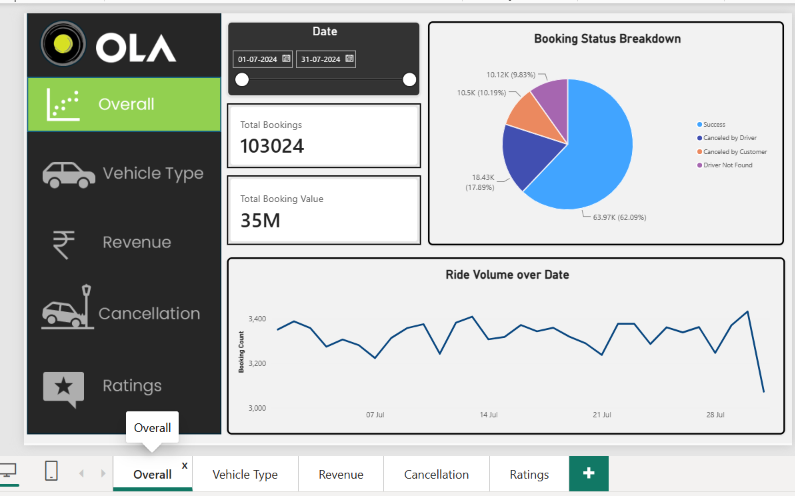

The dashboard page shown, as its layout file describes it:
{"tool":"powerbi","page":{"name":"Overall","canvas":[1280,720],"ordinal":0},"visuals":[{"type":"lineChart","title":"Ride Volume over Date","fields":{"Category":["July.Date"],"Y":["CountNonNull(July.Booking_ID)"]},"box":[338.3,406.7,930,295],"z":0},{"type":"pieChart","title":"Booking Status Breakdown","fields":{"Category":["July.Booking_Status"],"Y":["CountNonNull(July.Booking_Status)"]},"box":[673.3,13.3,593.3,373.3],"z":1000},{"type":"slicer","title":"Date","fields":{"Values":["July.Date"]},"box":[338.8,12.7,322.9,125.7],"z":2000},{"type":"cardVisual","title":"Total Bookings","fields":{"Data":["CountNonNull(July.Booking_ID)"]},"box":[338.3,150,323.3,108.3],"z":3000},{"type":"actionButton","box":[0,224.3,326.1,92.3],"z":4000},{"type":"actionButton","box":[1.6,326.1,326.1,92.3],"z":5000},{"type":"actionButton","box":[0,450.1,326.1,92.3],"z":6000},{"type":"actionButton","box":[1.6,572.6,326.1,92.3],"z":7000},{"type":"cardVisual","title":"Total Bookings","fields":{"Data":["Sum(July.Booking_Value)"]},"box":[338.3,270,323.3,116.7],"z":8000}]}

Visuals, with their boxes in screenshot pixels (x1, y1, x2, y2):
"Ride Volume over Date" lineChart: bbox(225, 255, 774, 429)
"Booking Status Breakdown" pieChart: bbox(423, 22, 773, 243)
"Date" slicer: bbox(225, 22, 416, 96)
"Total Bookings" cardVisual: bbox(225, 103, 416, 167)
actionButton: bbox(25, 147, 217, 202)
actionButton: bbox(26, 207, 218, 262)
actionButton: bbox(25, 280, 217, 335)
actionButton: bbox(26, 353, 218, 407)
"Total Bookings" cardVisual: bbox(225, 174, 416, 243)
